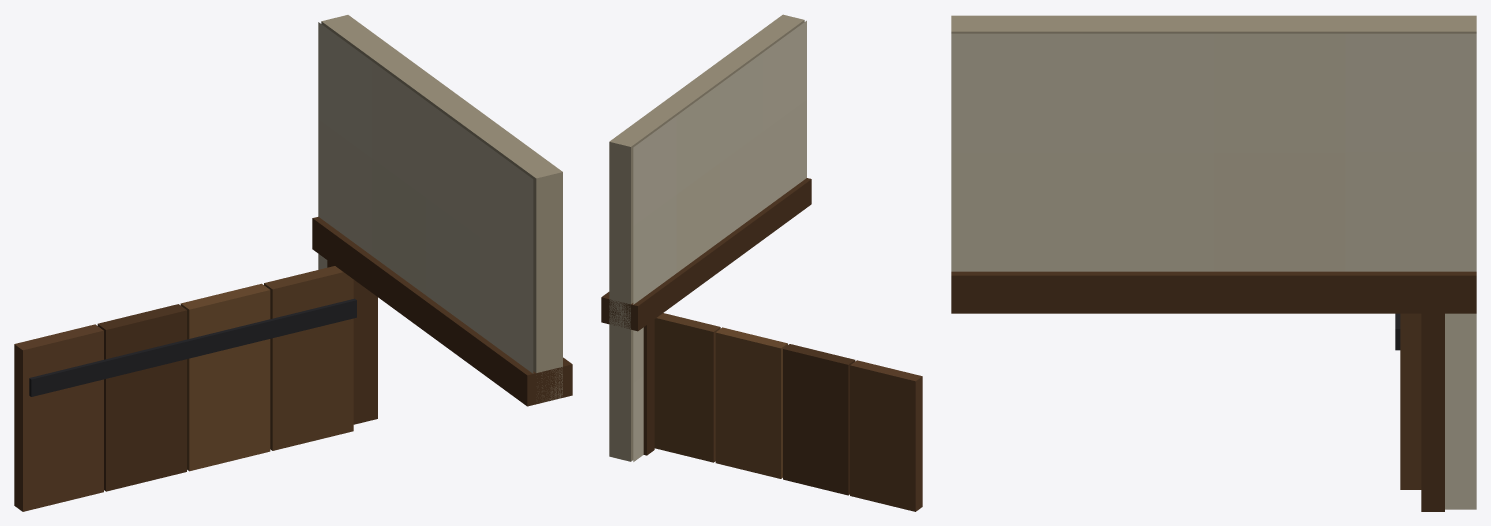
File: wall-plaster-door-open-high-l.glb
3 renders of one model, left to right at view 1: azimuth 30°, elevation 25°; view 2: azimuth 150°, elevation 25°; view 3: azimuth 270°, elevation 25°, orthographic. The views are drawn at different scales.
Parts seen in each view (by area): view 1: wall-plaster-door-open-high-l; view 2: wall-plaster-door-open-high-l; view 3: wall-plaster-door-open-high-l.
Boxes of the visible parts, left/top/right/bottom form: wall-plaster-door-open-high-l: left=14, top=15, right=572, bottom=511; wall-plaster-door-open-high-l: left=601, top=14, right=922, bottom=511; wall-plaster-door-open-high-l: left=951, top=15, right=1476, bottom=511.
Size of the model in its own units: 0.984 by 1 by 1.
